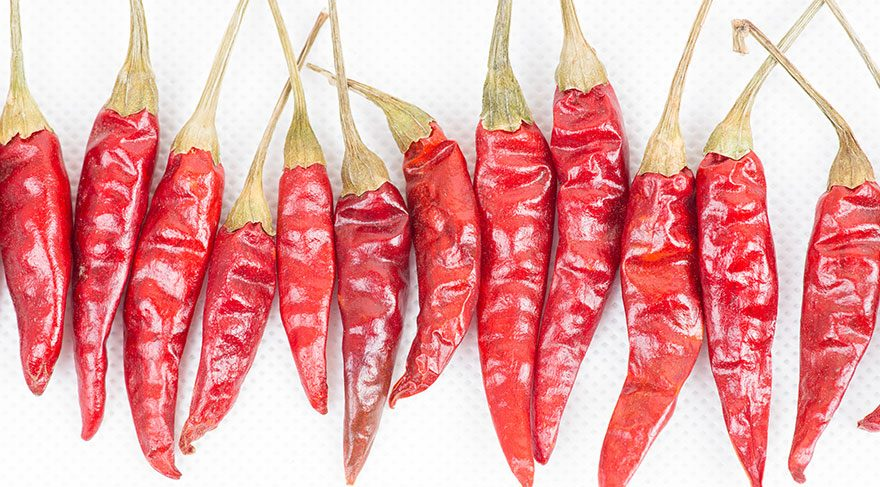Pepper: (111, 133, 230, 484), (539, 54, 632, 469), (597, 166, 700, 487), (694, 148, 784, 487), (178, 177, 280, 465), (71, 91, 152, 452), (474, 112, 552, 483), (325, 157, 411, 483), (801, 158, 880, 463), (398, 120, 480, 398), (1, 105, 70, 417), (273, 149, 341, 399)
